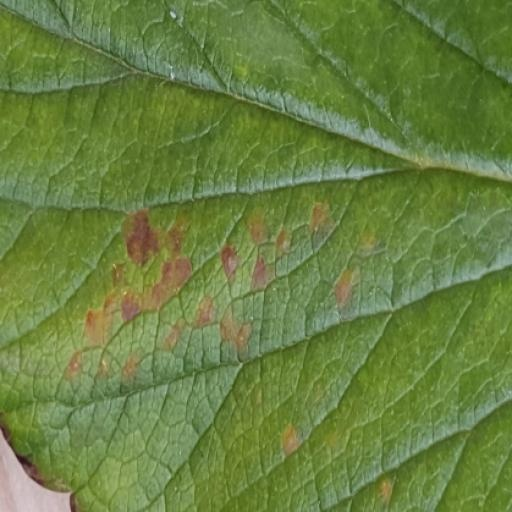Angular Leafspot: (113, 177, 452, 507)
